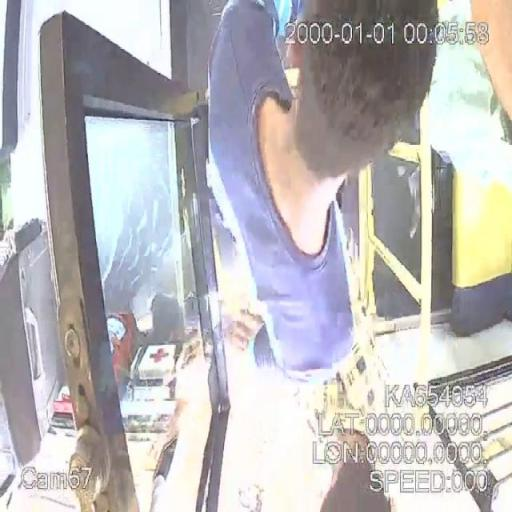persona: (201, 0, 440, 395)
